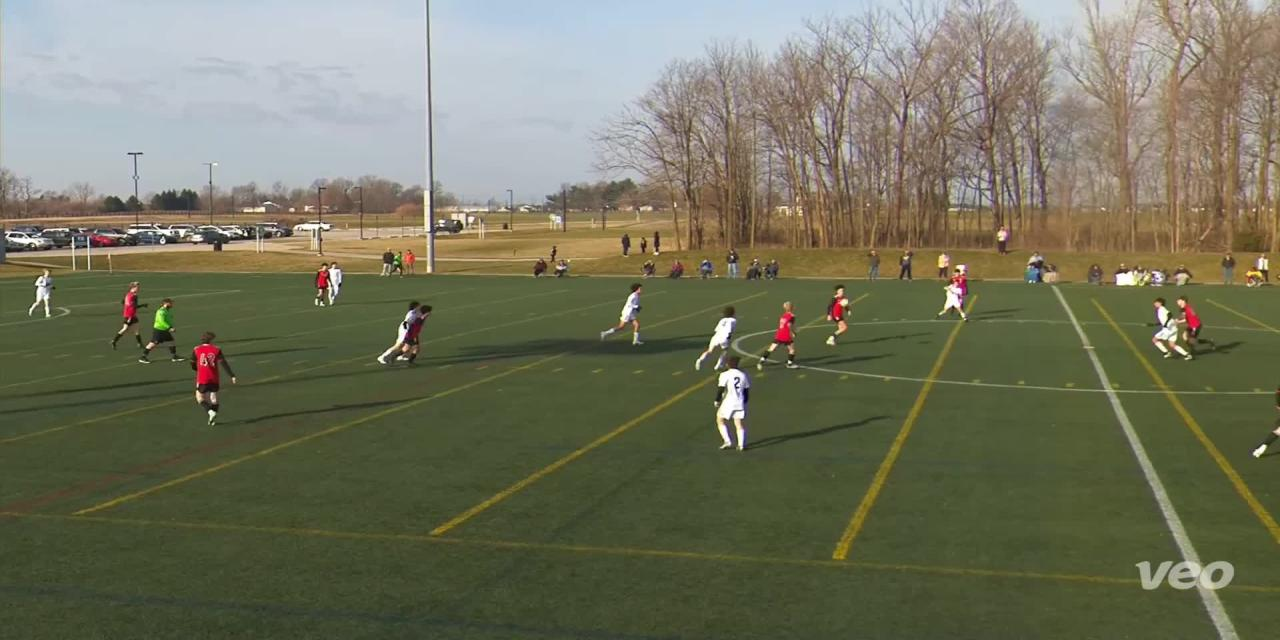sports ball: (836, 294, 851, 311)
